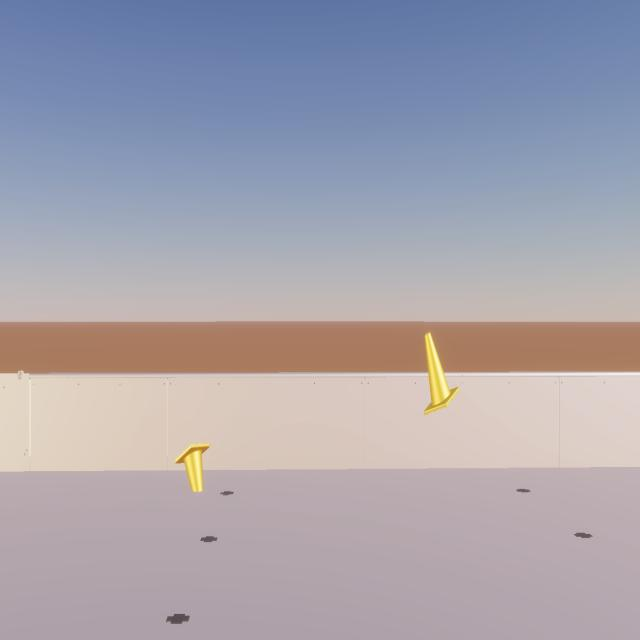frc_cone: (424, 332, 459, 415), (175, 443, 210, 492)
